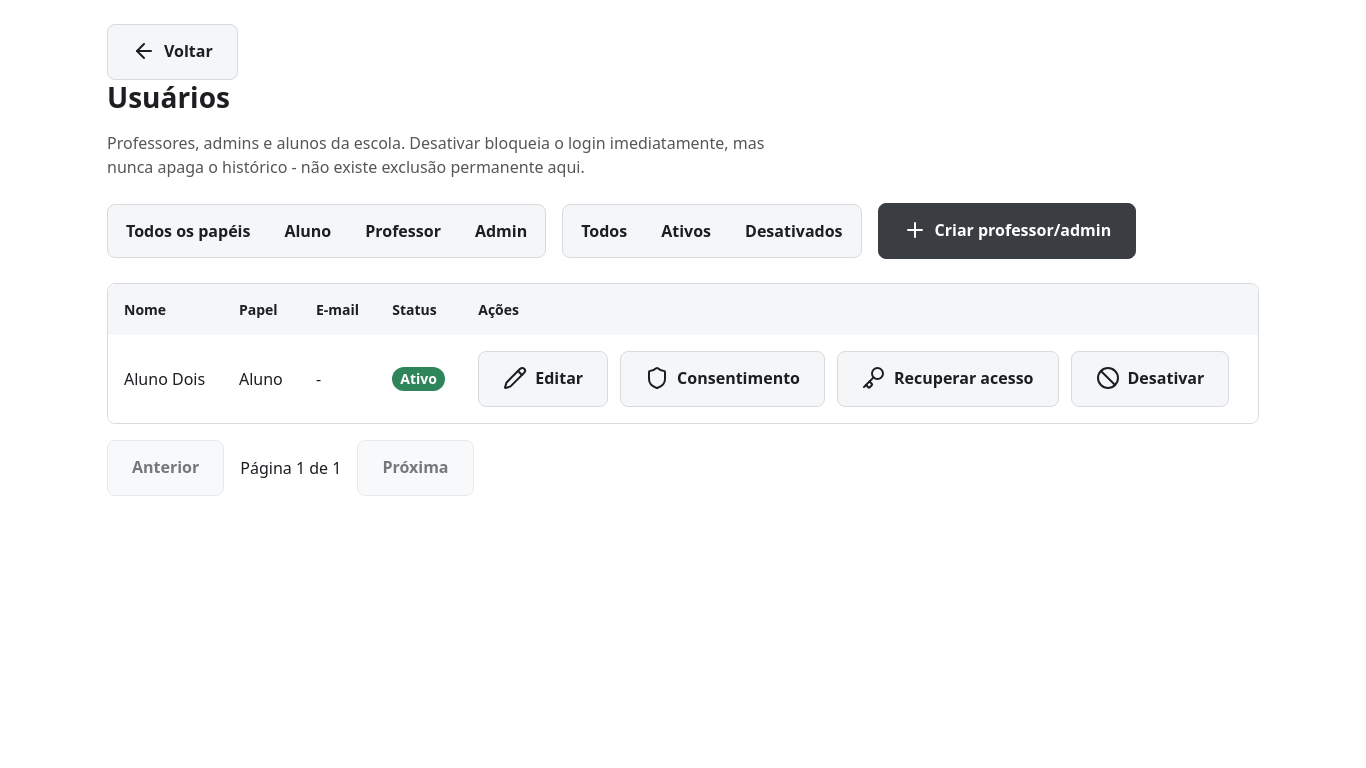
Scenario: AdminUsers › 1.3 - resets the credential via POST /teacher/students/:id/reset-credential and shows the new sequence
This screenshot has width=1366, height=768.
Expected: the text "Aluno Dois" is shown, [108,335,223,423]
Click the button "Recuperar acesso" at (948,379), box [837,351,1058,407]
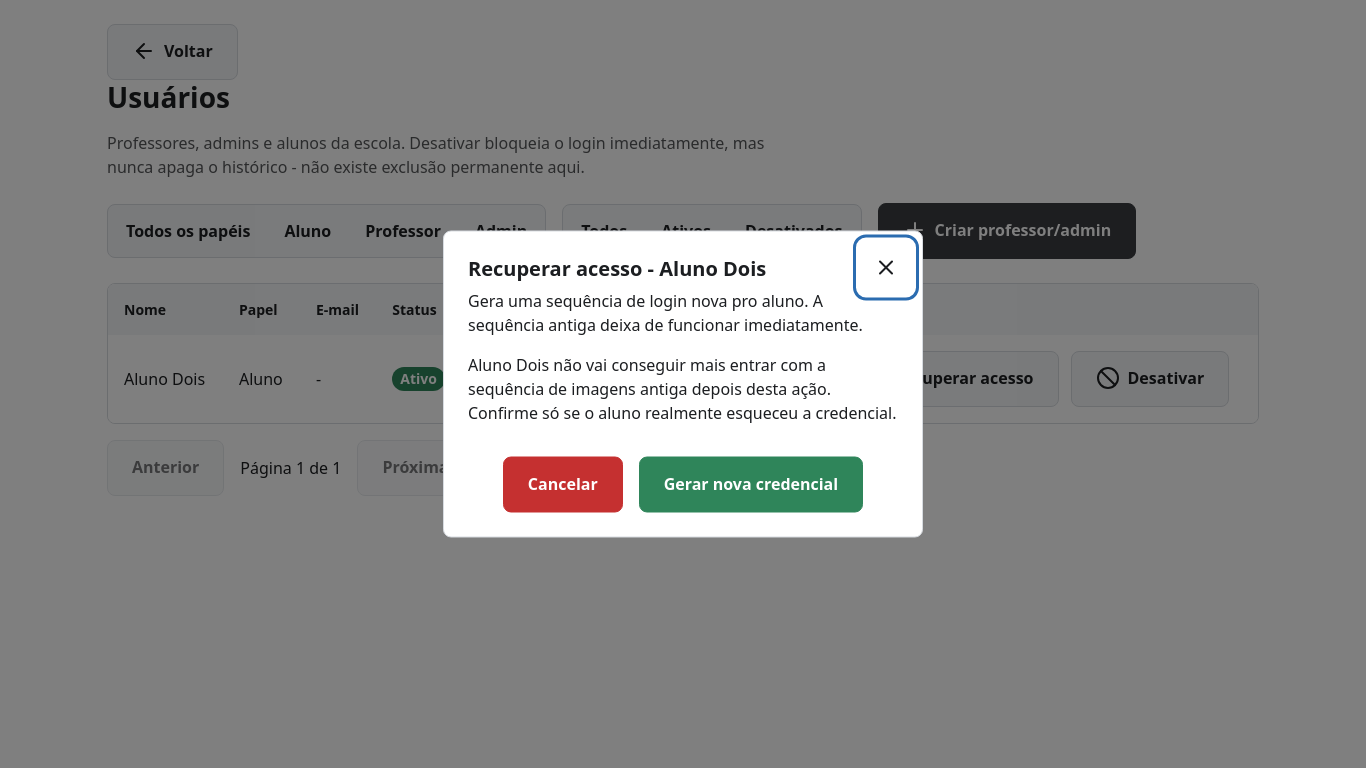
Click the button "Gerar nova credencial" at (751,484), box [639,456,863,512]
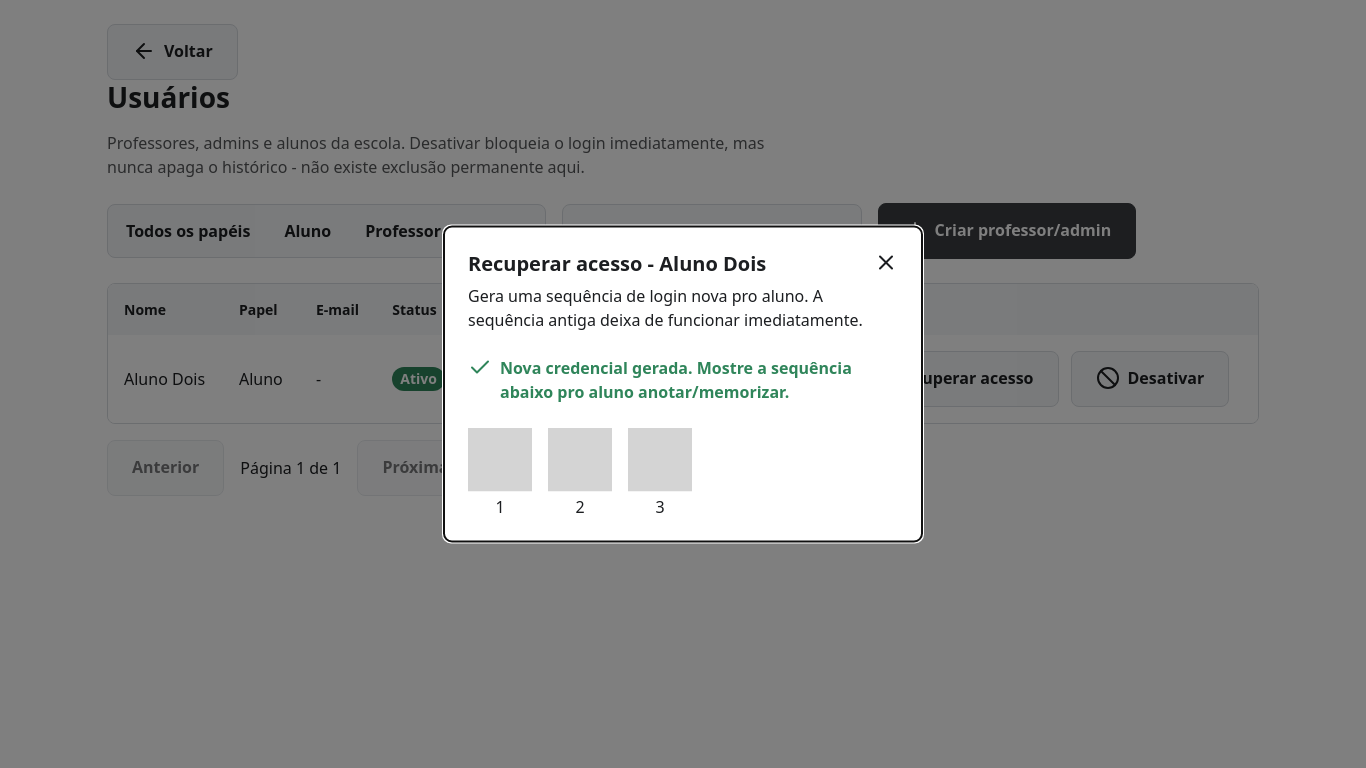
Now the text "Nova credencial gerada" is shown, box [500,356,852,402]
